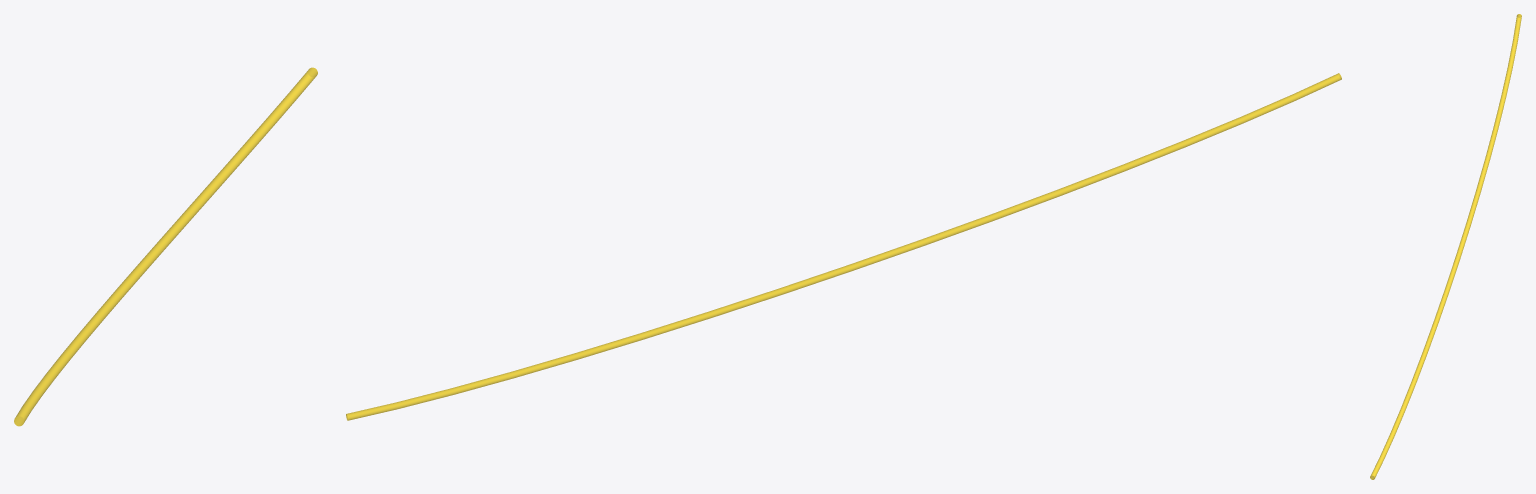
The model's file is Event_84804159_track_55.fbx.
3 views of the same model, side by side, from view 1: azimuth 90°, elevation 25°; view 2: azimuth 210°, elevation 25°; view 3: azimuth 270°, elevation 25° (orthographic). The views are drawn at different scales.
Visible parts, largest first — view 1: Model; view 2: Model; view 3: Model.
Part boxes in pixels (x1=…): Model: x1=14, y1=67, x2=317, y2=426; Model: x1=346, y1=73, x2=1341, y2=420; Model: x1=1370, y1=14, x2=1521, y2=479.
Bounding box in the file's own units: 5.82 × 1.26 × 1.17.
